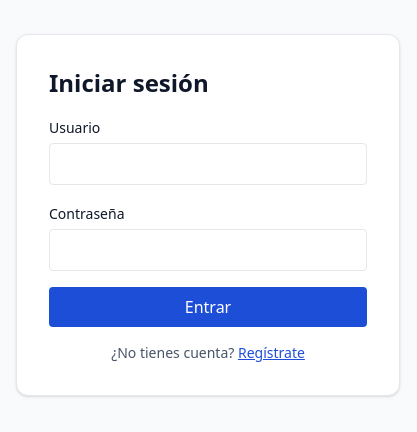
Test: LoginPage › muestra error cuando las credenciales son incorrectas
// Rellenamos el formulario y pulsamos Entrar
In the field labelled "Usuario": (208, 164) 49,143 -> 367,185, type "incorrecto"
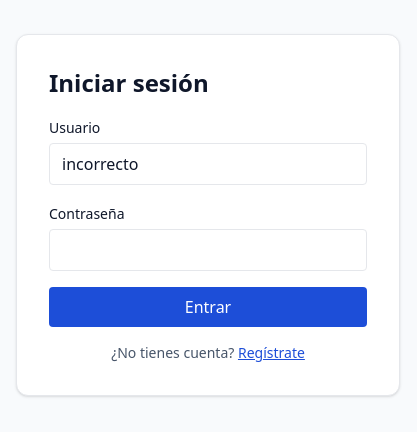
In the password field labelled "Contraseña": (208, 250) 49,229 -> 367,271, type "1234"
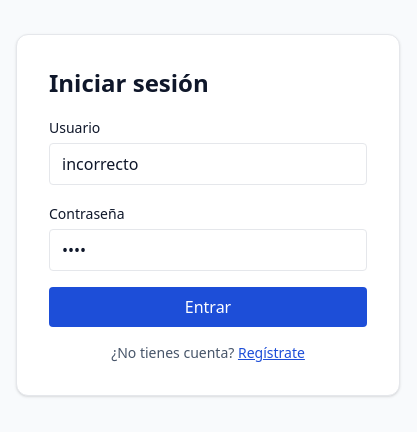
Click the button "Entrar": click(208, 307) 49,287 -> 367,327
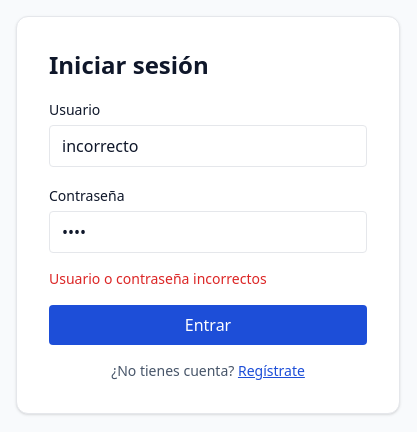
Check: the text "Usuario o contraseña incorrectos" is shown, box 49,269 -> 267,288
